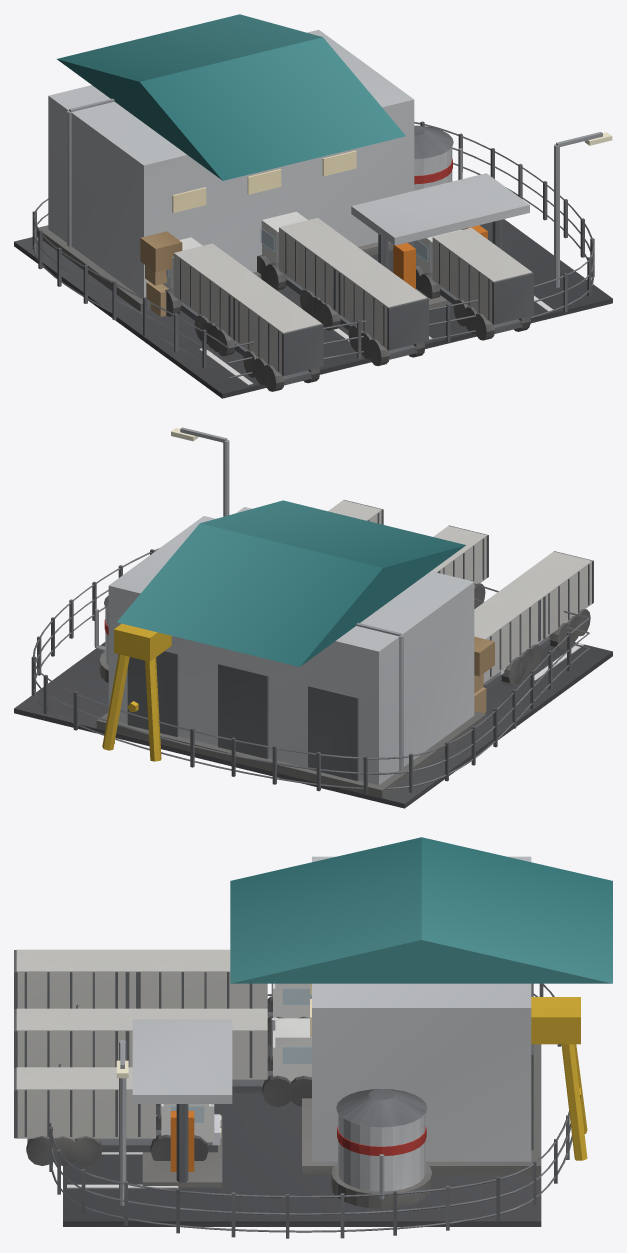
The model's file is Fleet_P3.fbx.
3 views of the same model, one above another, from view 1: azimuth 30°, elevation 25°; view 2: azimuth 150°, elevation 25°; view 3: azimuth 270°, elevation 25° (orthographic). The views are drawn at different scales.
Parts seen in each view (by area): view 1: Fleet.Garage, Fleet.Yard, Fleet.Parked2, Fleet.FuelIsland, Fleet.Parked0, Fleet.Parked1, Fleet.Parked4, Fleet.Fence, Fleet.Parked3, Fleet.FuelTank, Fleet.Crates, Fleet.Lamp1 (+1 smaller); view 2: Fleet.Garage, Fleet.Yard, Fleet.Fence, Fleet.Parked0, Fleet.Parked3, Fleet.WashGantry, Fleet.Parked1, Fleet.Crates, Fleet.Lamp1, Fleet.Lamp0, Fleet.Parked2, Fleet.FuelTank; view 3: Fleet.Garage, Fleet.Yard, Fleet.Parked2, Fleet.FuelIsland, Fleet.FuelTank, Fleet.Parked0, Fleet.Parked4, Fleet.Parked3, Fleet.Parked1, Fleet.Fence, Fleet.WashGantry, Fleet.Lamp1.
Boxes of the visible parts, x1,y1,x2,y2 form: Fleet.Garage: [37, 14, 414, 311]; Fleet.Yard: [14, 219, 612, 398]; Fleet.Parked2: [409, 227, 533, 340]; Fleet.FuelIsland: [351, 173, 529, 308]; Fleet.Parked0: [197, 279, 323, 391]; Fleet.Parked1: [302, 254, 428, 365]; Fleet.Parked4: [257, 211, 377, 330]; Fleet.Fence: [32, 121, 594, 378]; Fleet.Parked3: [163, 237, 272, 356]; Fleet.FuelTank: [414, 125, 462, 190]; Fleet.Crates: [140, 231, 182, 316]; Fleet.Lamp1: [554, 132, 612, 287]; Fleet.Garage: [96, 500, 486, 797]; Fleet.Yard: [14, 642, 612, 808]; Fleet.Fence: [31, 548, 589, 794]; Fleet.Parked0: [493, 551, 593, 683]; Fleet.Parked3: [474, 596, 545, 701]; Fleet.WashGantry: [102, 623, 171, 761]; Fleet.Parked1: [433, 525, 488, 608]; Fleet.Crates: [474, 636, 494, 713]; Fleet.Lamp1: [171, 427, 229, 516]; Fleet.Lamp0: [356, 623, 403, 770]; Fleet.Parked2: [328, 500, 383, 524]; Fleet.FuelTank: [94, 595, 108, 682]; Fleet.Garage: [230, 837, 612, 1174]; Fleet.Yard: [63, 1044, 541, 1226]; Fleet.Parked2: [14, 1067, 221, 1165]; Fleet.FuelIsland: [132, 1019, 232, 1187]; Fleet.FuelTank: [331, 1089, 432, 1208]; Fleet.Parked0: [14, 949, 155, 1008]; Fleet.Parked4: [125, 1008, 311, 1106]; Fleet.Parked3: [125, 949, 311, 1046]; Fleet.Parked1: [14, 1008, 159, 1105]; Fleet.Fence: [49, 983, 572, 1238]; Fleet.WashGantry: [531, 997, 587, 1160]; Fleet.Lamp1: [116, 1040, 128, 1205].
Bounding box in the file's own units: 2895 × 1173 × 3005.
